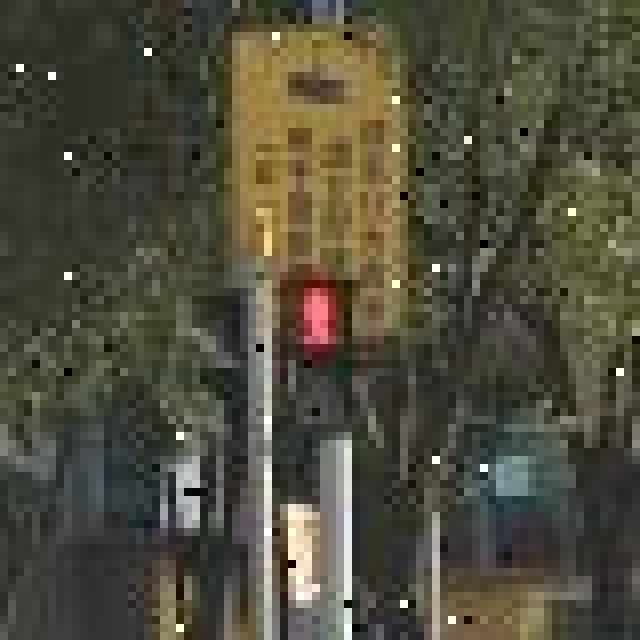redlight: (274, 282, 362, 434)
